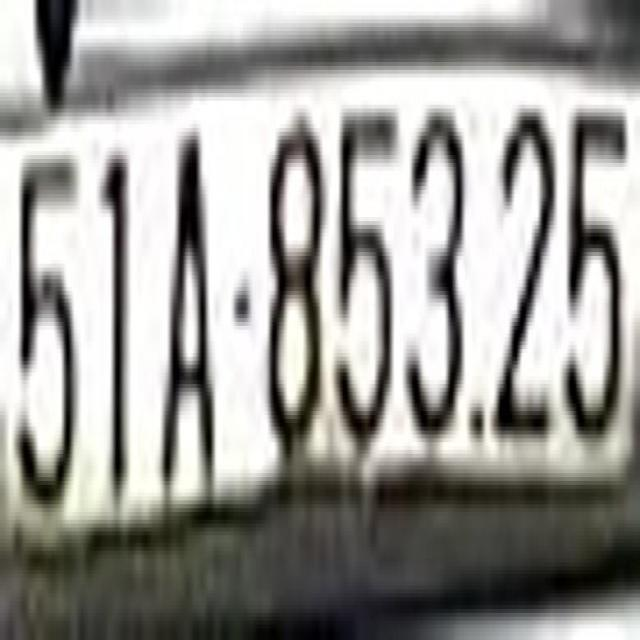1: (102, 163, 132, 512)
2: (490, 81, 556, 454)
3: (406, 112, 464, 434)
5: (16, 151, 80, 512), (564, 81, 624, 450), (334, 109, 398, 438)
8: (264, 112, 323, 462)
A: (153, 128, 219, 485)
